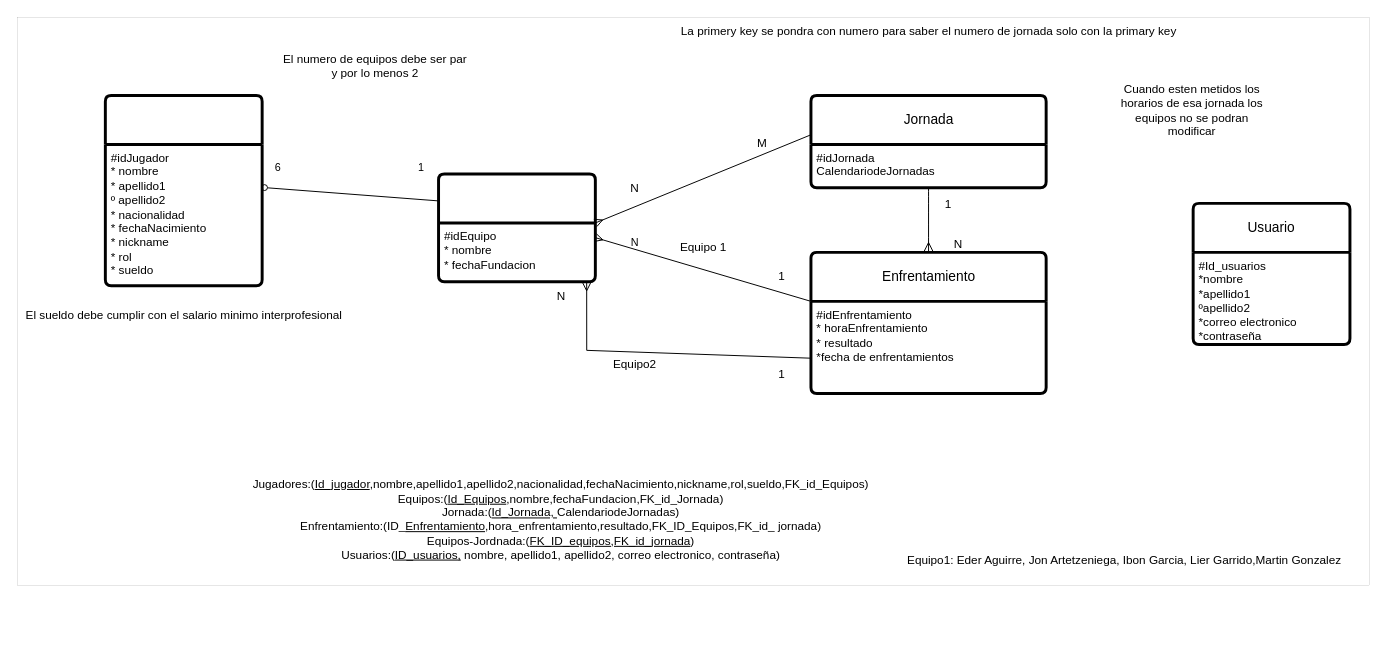
The diagram is 1396 pixels wide and 670 high, and some of its shapes have lost their labels. Here are the shapes that lost their labels. From the top down, the box of each, then its label:
(103, 94, 263, 287): Jugadores
(437, 172, 596, 283): Equipos
